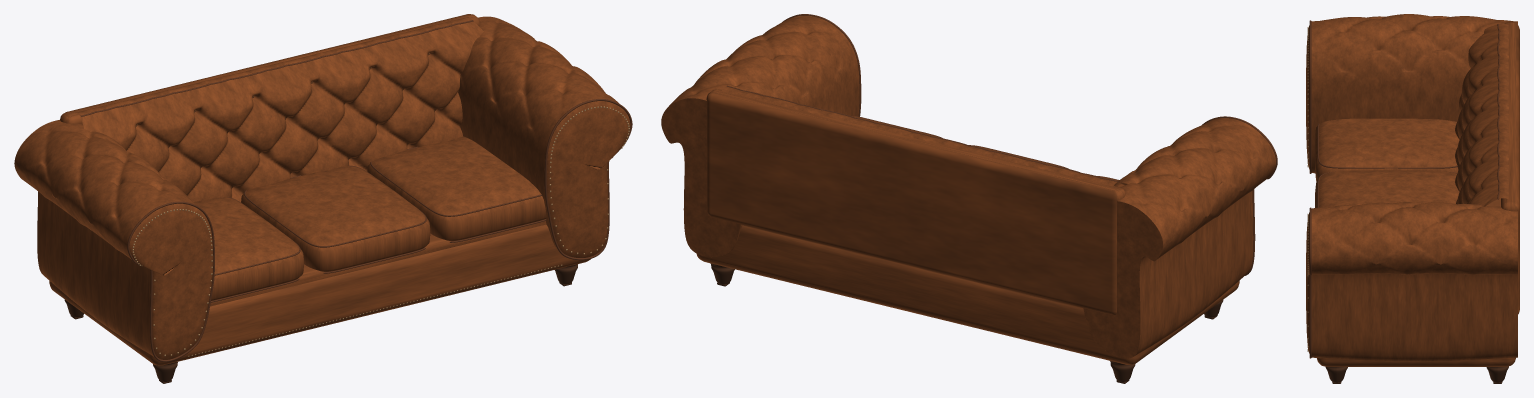
Rendered from chesterfield.glb.
3 renders of one model, left to right at view 1: azimuth 30°, elevation 25°; view 2: azimuth 150°, elevation 25°; view 3: azimuth 270°, elevation 25°, orthographic. The views are drawn at different scales.
Parts seen in each view (by area): view 1: Chesterfield | Cognac leather, Chesterfield | Dark leather welting, Chesterfield | Dark turned walnut, Chesterfield | Antique brass nail heads; view 2: Chesterfield | Cognac leather, Chesterfield | Dark leather welting, Chesterfield | Dark turned walnut; view 3: Chesterfield | Cognac leather, Chesterfield | Dark leather welting, Chesterfield | Dark turned walnut, Chesterfield | Antique brass nail heads.
Boxes of the visible parts, x1,y1,x2,y2 form: Chesterfield | Cognac leather: [14, 14, 630, 365]; Chesterfield | Dark leather welting: [80, 20, 632, 361]; Chesterfield | Dark turned walnut: [64, 264, 577, 383]; Chesterfield | Antique brass nail heads: [132, 106, 629, 356]; Chesterfield | Cognac leather: [661, 15, 1275, 364]; Chesterfield | Dark leather welting: [727, 14, 1277, 275]; Chesterfield | Dark turned walnut: [710, 263, 1223, 383]; Chesterfield | Cognac leather: [1306, 14, 1519, 366]; Chesterfield | Dark leather welting: [1309, 20, 1500, 358]; Chesterfield | Dark turned walnut: [1325, 366, 1508, 383]; Chesterfield | Antique brass nail heads: [1307, 27, 1308, 351].
Size of the model in its own units: 2.57 by 0.9683 by 1.03.
Materials: 5 (1 with a texture image).
